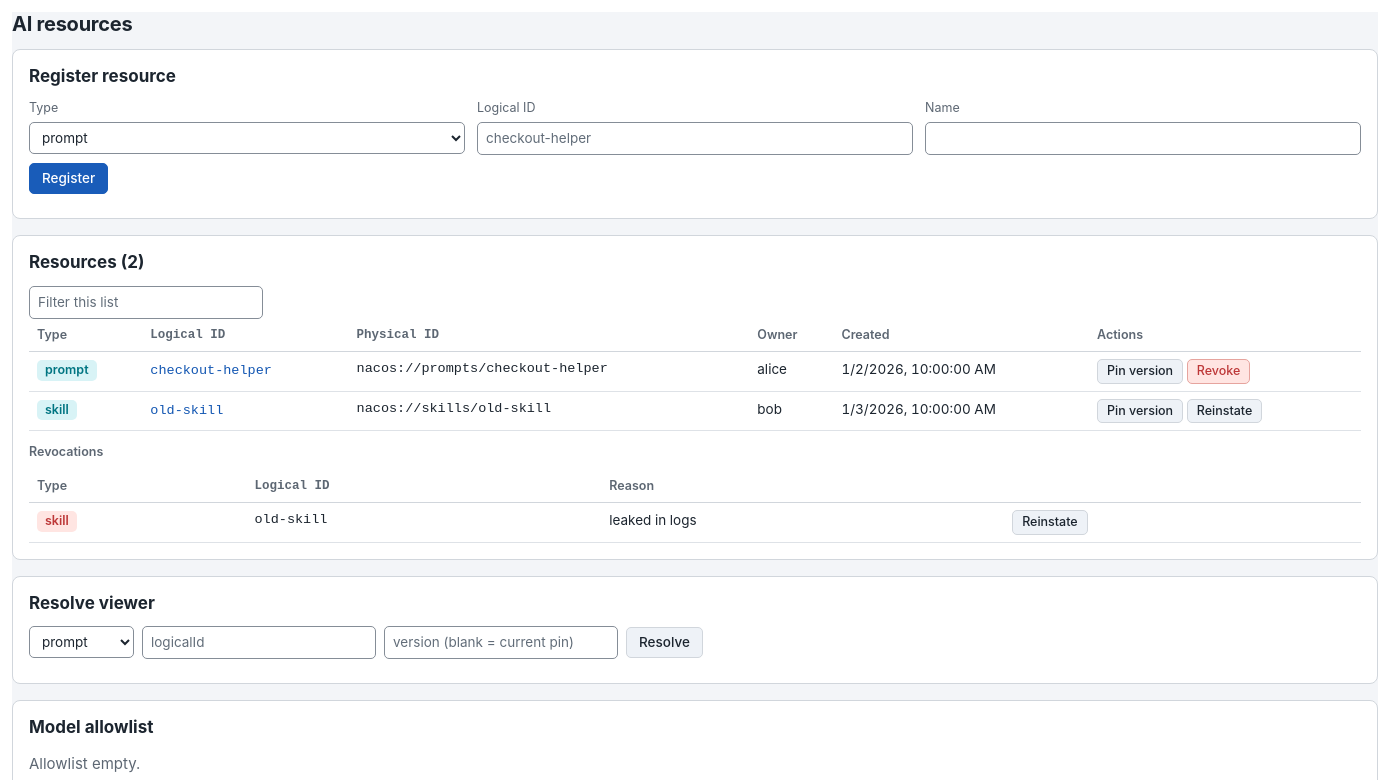
Test: AiPage list › resolves a resource and renders the version/digest chips
Type "checkout-helper" into the field with placeholder "logicalId" at point(259, 642), box [142,626,376,659]
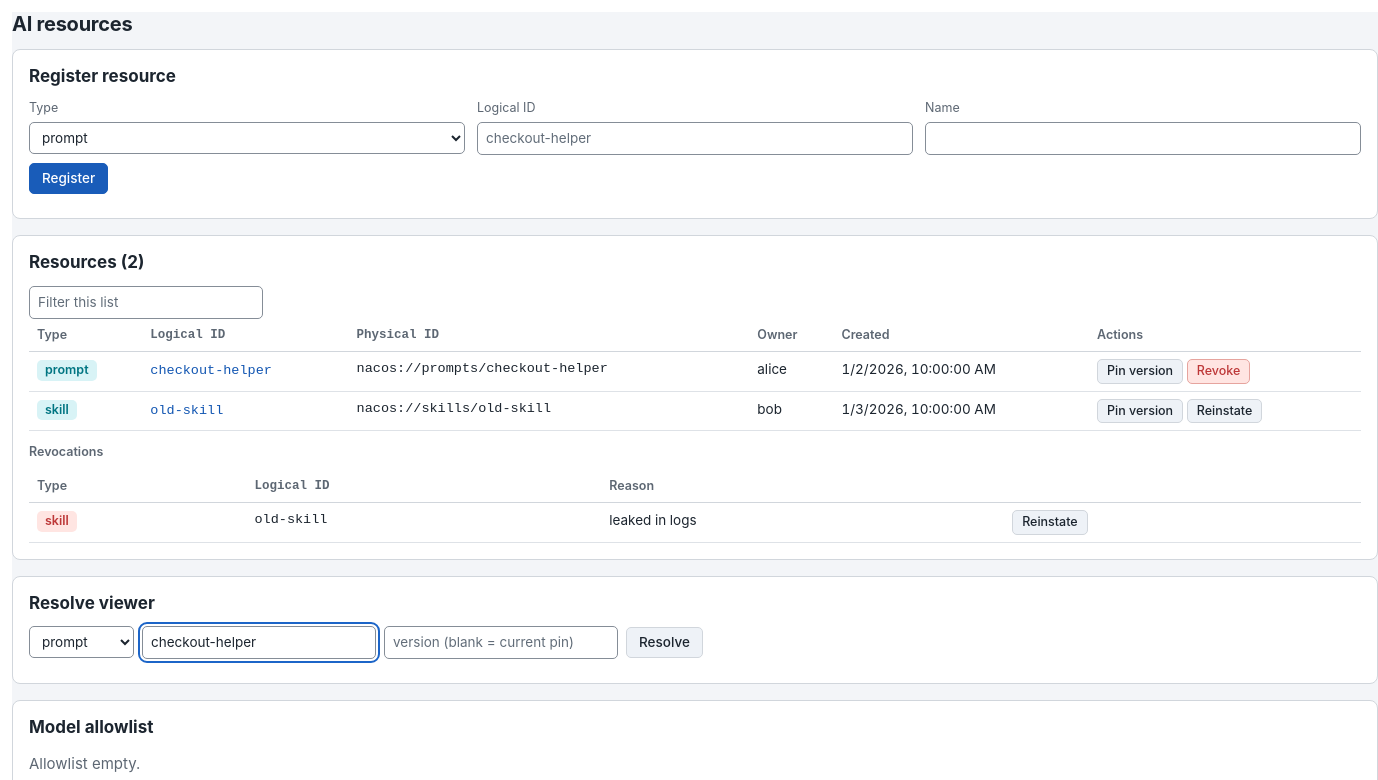
Click the button "Resolve" at point(664, 642), box [626,626,703,658]
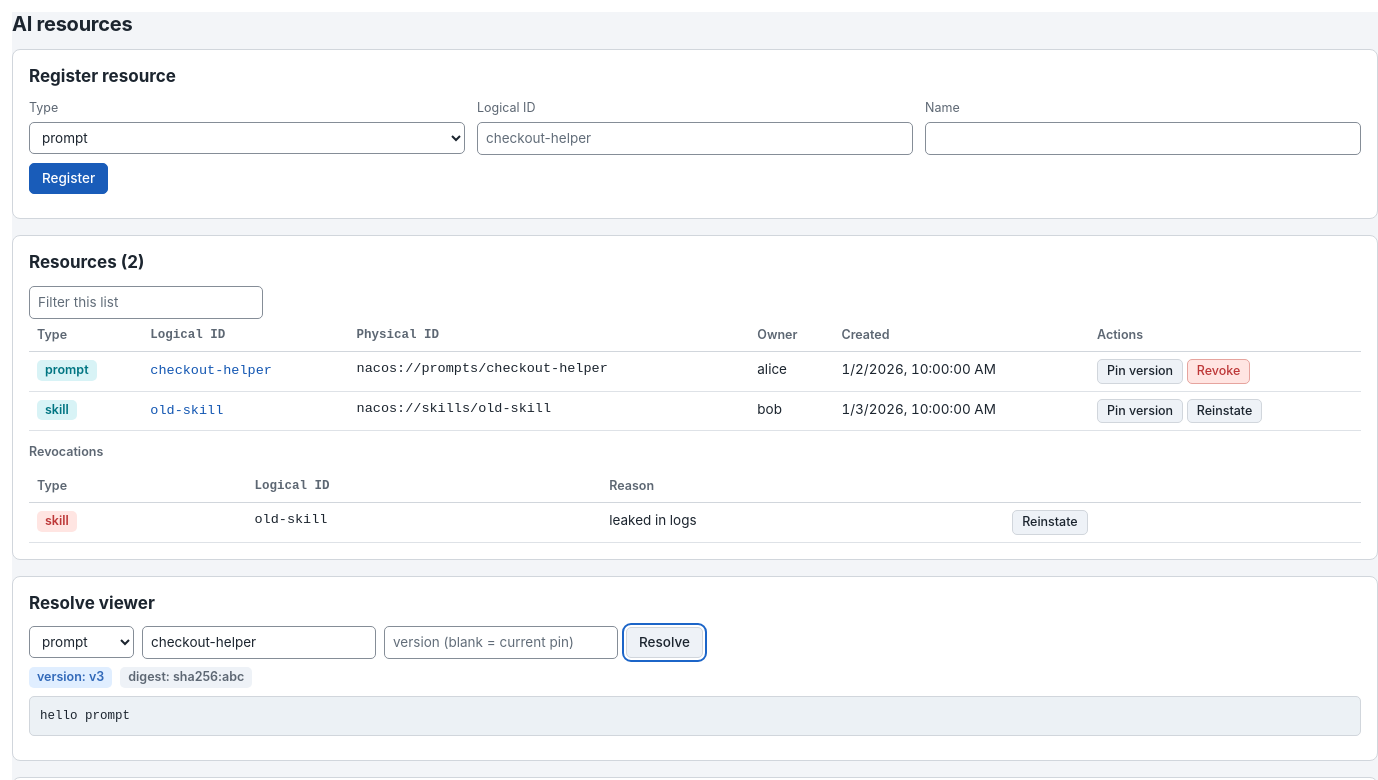
Now the text "version: v3" is shown, box [29,667,112,688]
Now the text "digest: sha256:abc" is shown, box [120,667,252,688]
Now the text "hello prompt" is shown, box [29,696,1361,736]
